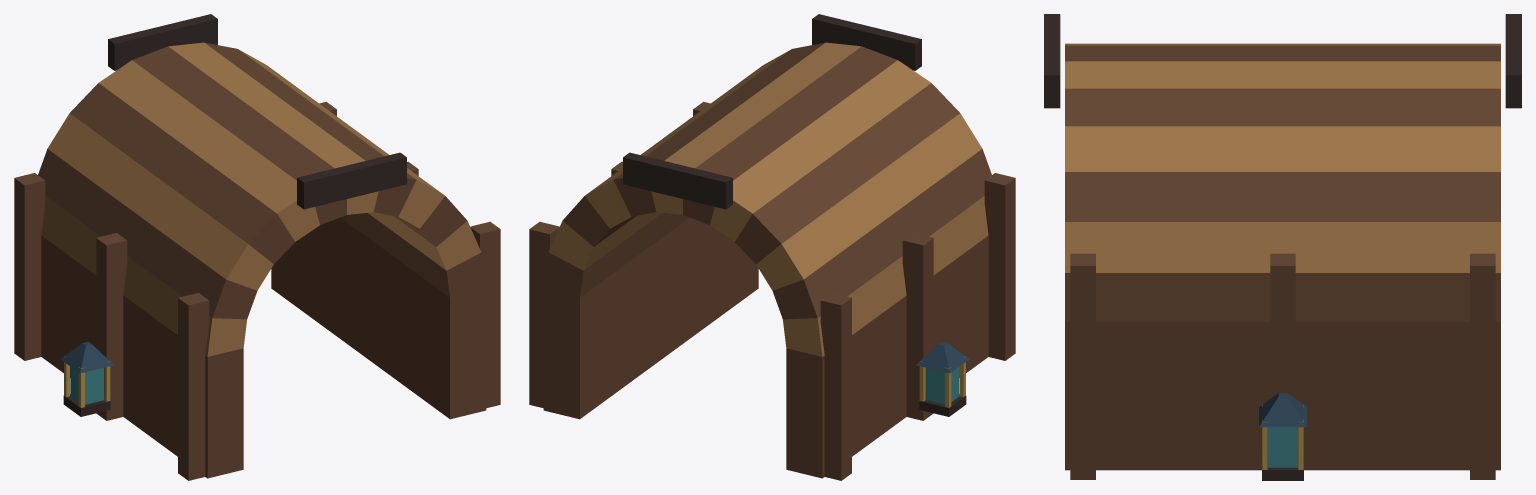
The model's file is PirateCove_ShipwreckTunnel_Showcase.glb.
3 views of the same model, side by side, from view 1: azimuth 30°, elevation 25°; view 2: azimuth 150°, elevation 25°; view 3: azimuth 270°, elevation 25° (orthographic). The views are drawn at different scales.
Parts seen in each view (by area): view 1: PirateCove_ShipwreckTunnel_Showcase; view 2: PirateCove_ShipwreckTunnel_Showcase; view 3: PirateCove_ShipwreckTunnel_Showcase.
Part boxes in pixels (x1,y1,x2,y2): PirateCove_ShipwreckTunnel_Showcase: (14, 14, 500, 480); PirateCove_ShipwreckTunnel_Showcase: (529, 14, 1015, 480); PirateCove_ShipwreckTunnel_Showcase: (1044, 14, 1521, 480).
Bounding box in the file's own units: 2.9 × 2.08 × 2.63.
